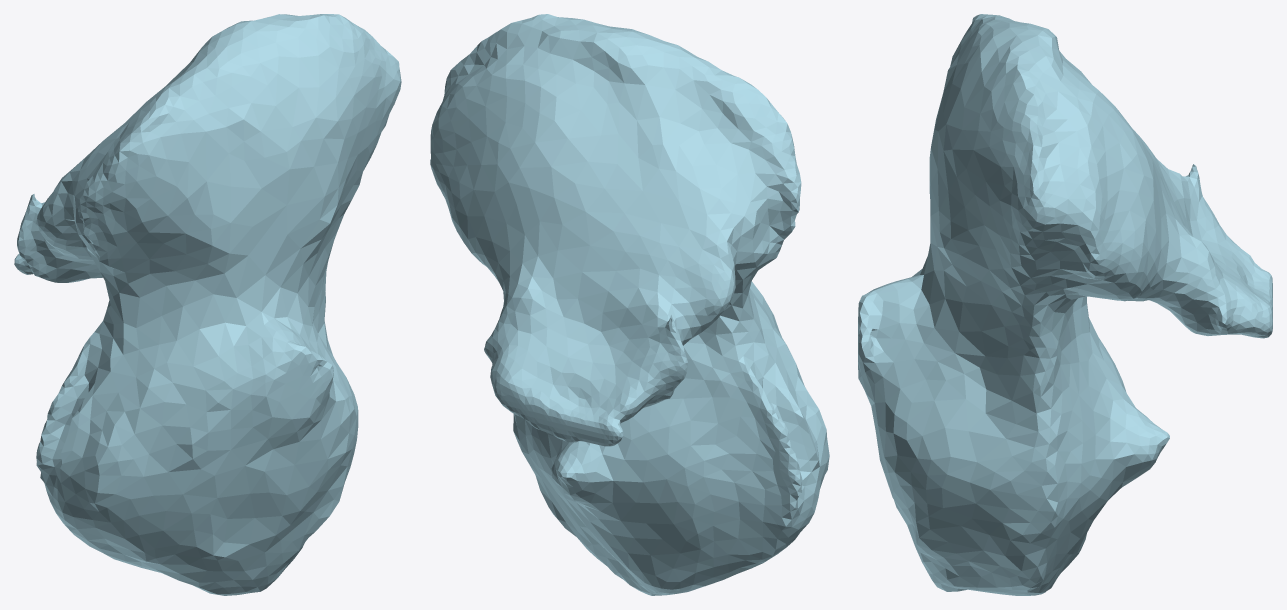
Rendered from uterus.obj.
3 views of the same model, side by side, from view 1: azimuth 30°, elevation 25°; view 2: azimuth 150°, elevation 25°; view 3: azimuth 270°, elevation 25° (orthographic). The views are drawn at different scales.
Parts seen in each view (by area): view 1: grp1; view 2: grp1; view 3: grp1.
Part boxes in pixels (box(x1,y1,x2,y2)): grp1: box(14, 14, 401, 595); grp1: box(430, 14, 829, 595); grp1: box(858, 14, 1272, 595).
Size of the model in its own units: 62.19 by 89.9 by 58.
